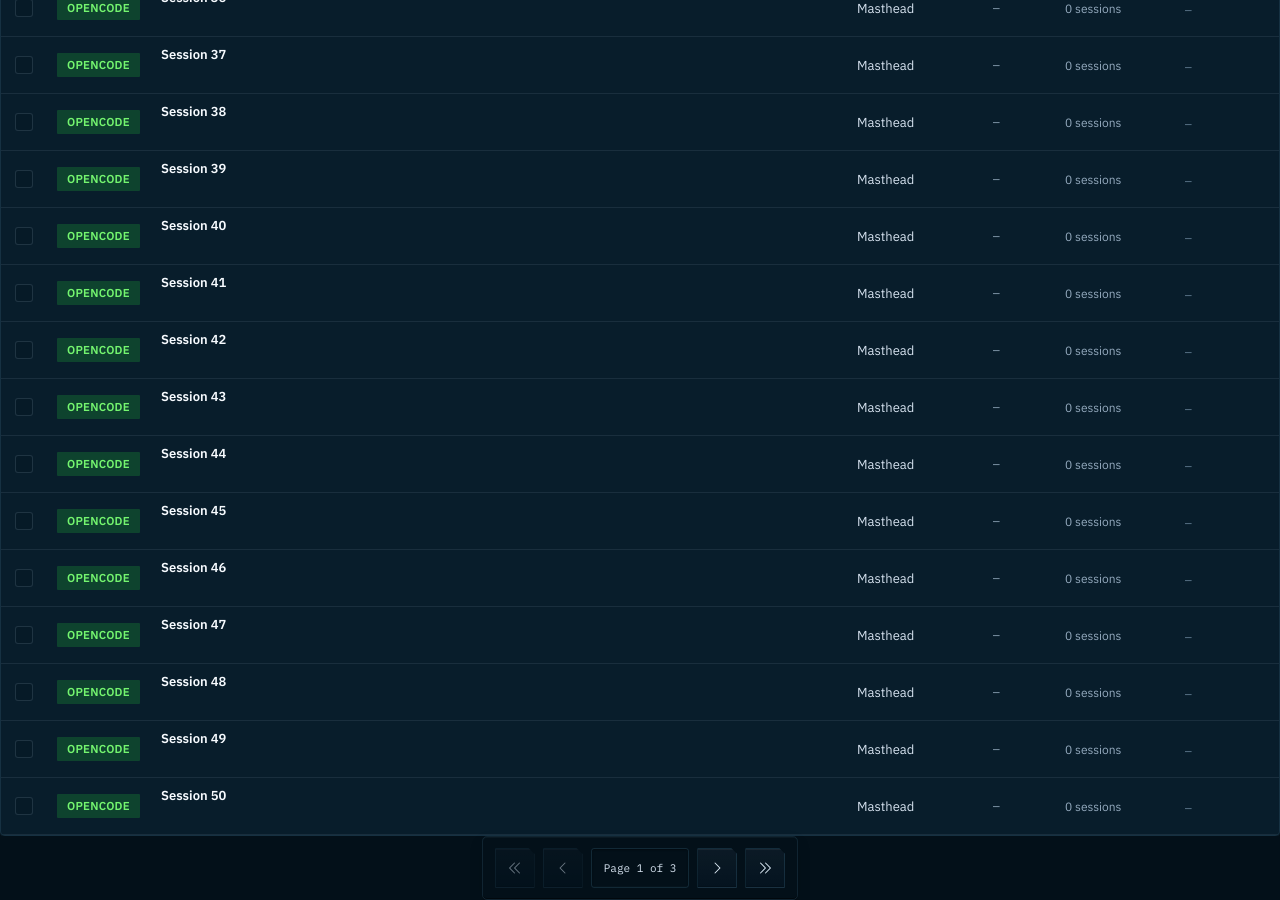
HistoryPanel pagination › optimistically shows the target page skeleton immediately after clicking next
Click the button named "Next page".
click(717, 868)  # box [697,848,737,888]
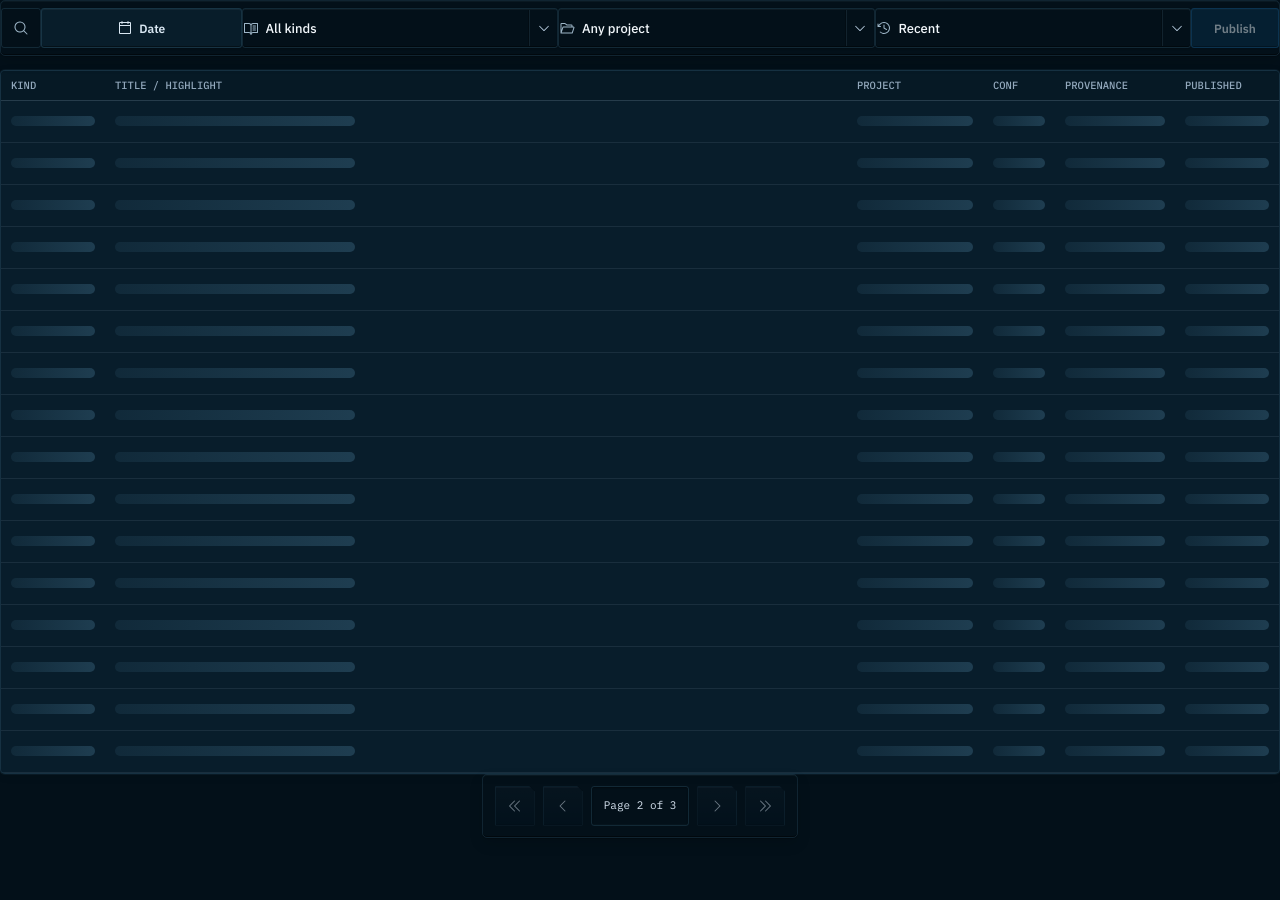
Expected: the text "Page 2 of 3" is shown, [591,786,689,826]
